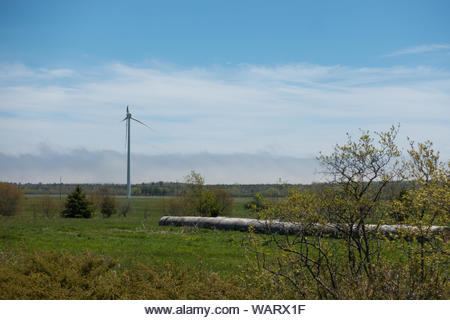faulty: (111, 102, 152, 160)
